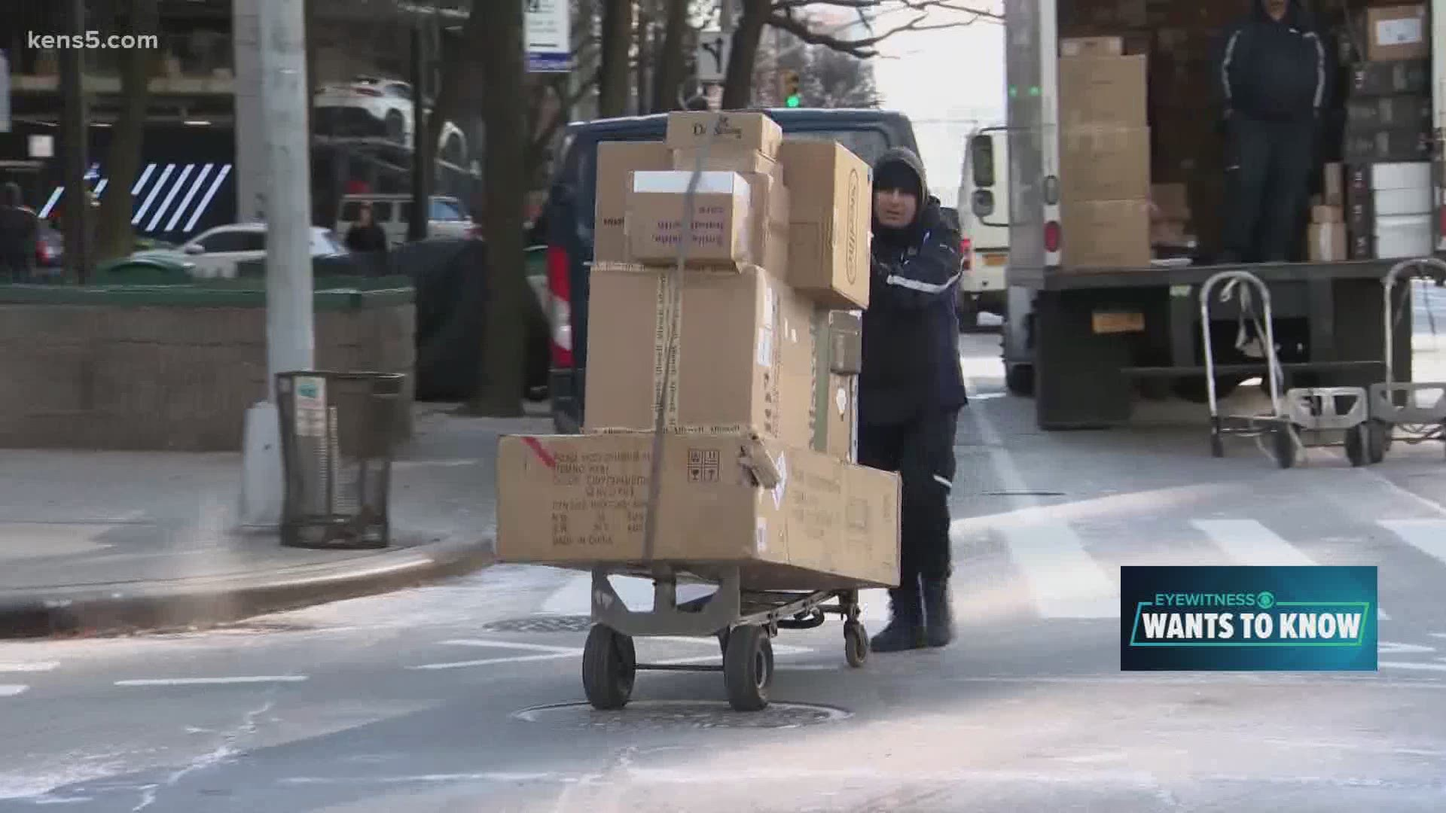DeliveryBox: (523, 112, 908, 598)
Person: (844, 126, 980, 659)
